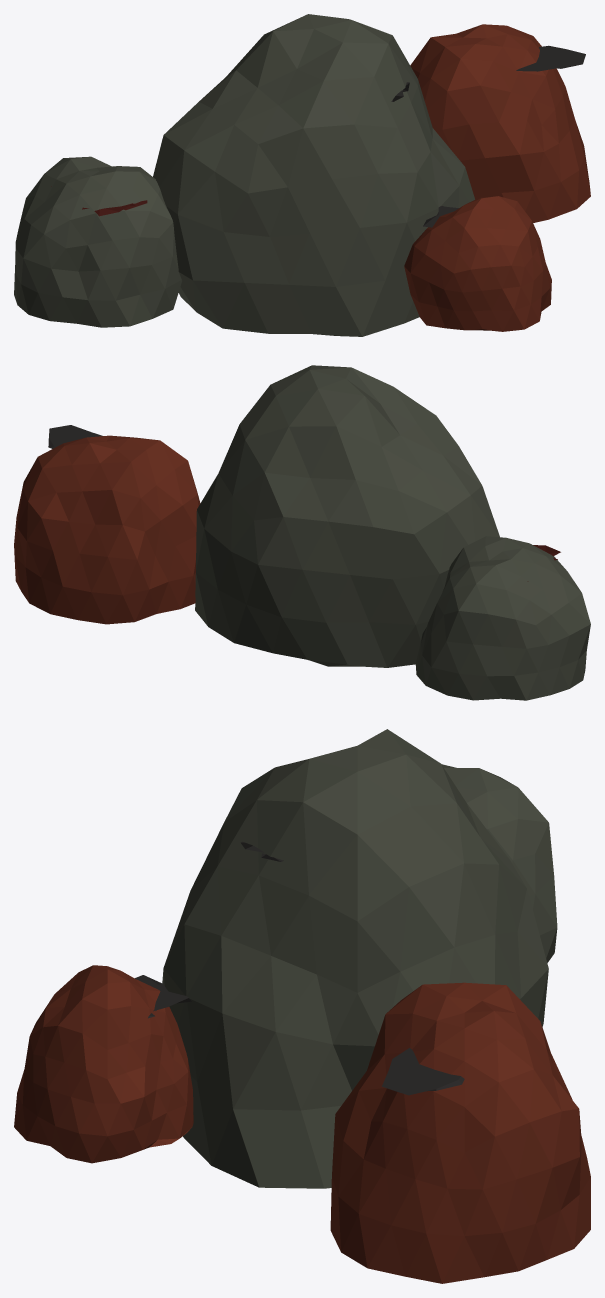
The model's file is desert_boulders.glb.
3 views of the same model, one above another, from view 1: azimuth 30°, elevation 25°; view 2: azimuth 150°, elevation 25°; view 3: azimuth 270°, elevation 25° (orthographic). The views are drawn at different scales.
Visible parts, largest first — view 1: desert_boulders; view 2: desert_boulders; view 3: desert_boulders.
Part boxes in pixels (x1,y1,x2,y2): desert_boulders: [14, 14, 590, 336]; desert_boulders: [14, 365, 590, 700]; desert_boulders: [14, 729, 590, 1283].
Size of the model in its own units: 5.19 by 2.14 by 3.23.
